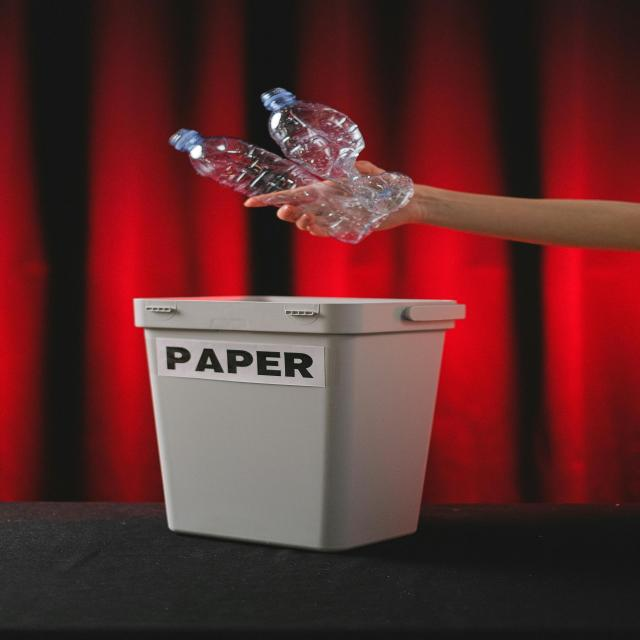plastic: (228, 119, 370, 222)
